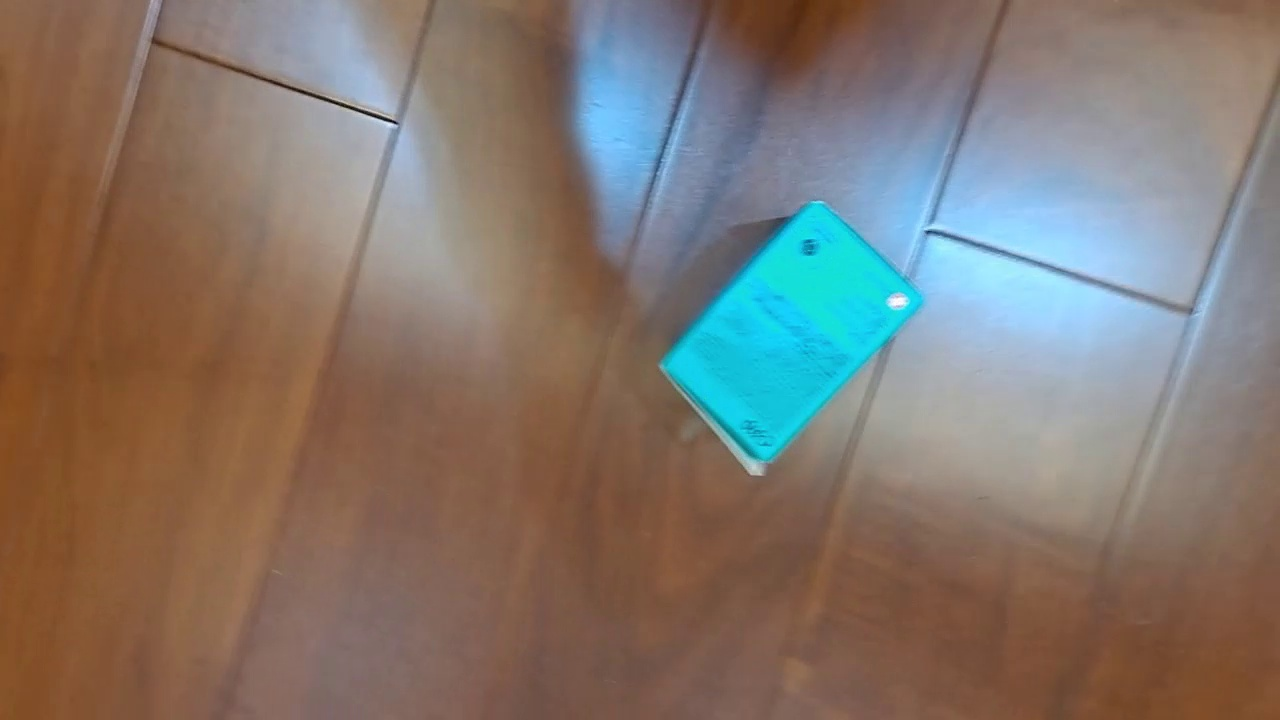webcam: (655, 198, 927, 478)
